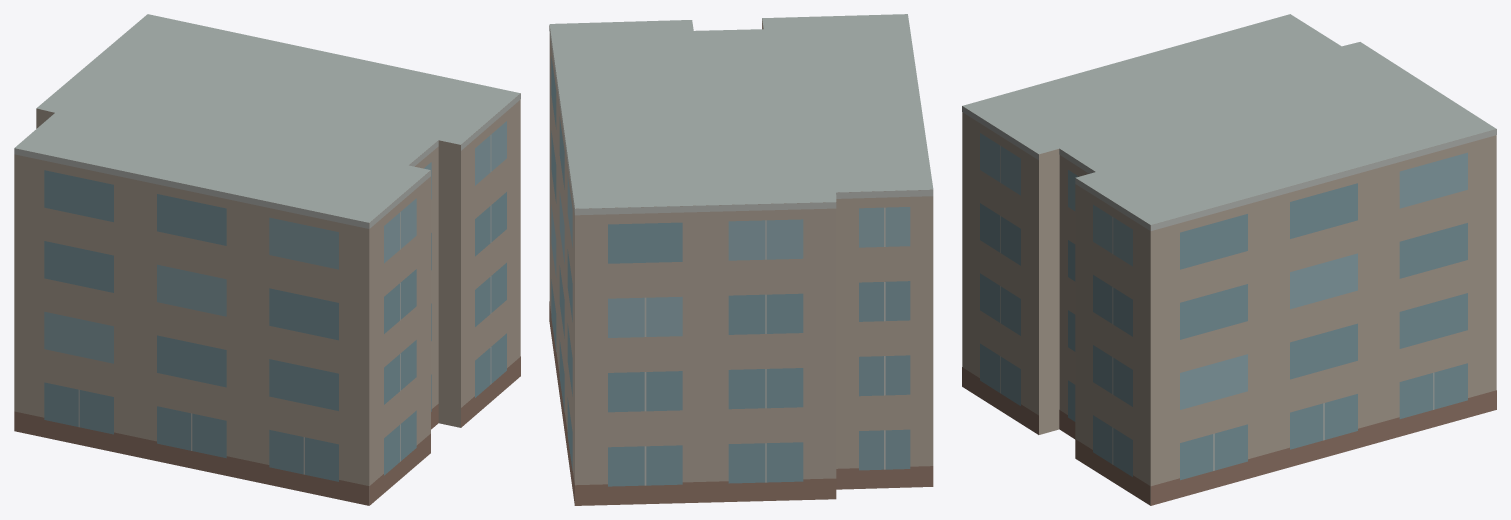
The model's file is survey-upis-32612734.glb.
3 renders of one model, left to right at view 1: azimuth 30°, elevation 25°; view 2: azimuth 150°, elevation 25°; view 3: azimuth 270°, elevation 25°, orthographic. The views are drawn at different scales.
Parts seen in each view (by area): view 1: survey-upis-32612734.tmp; view 2: survey-upis-32612734.tmp; view 3: survey-upis-32612734.tmp.
Boxes of the visible parts, left/top/right/bottom form: survey-upis-32612734.tmp: left=14, top=14, right=520, bottom=505; survey-upis-32612734.tmp: left=549, top=14, right=933, bottom=505; survey-upis-32612734.tmp: left=962, top=14, right=1496, bottom=505.
Size of the model in its own units: 18.07 by 11.2 by 19.34.
